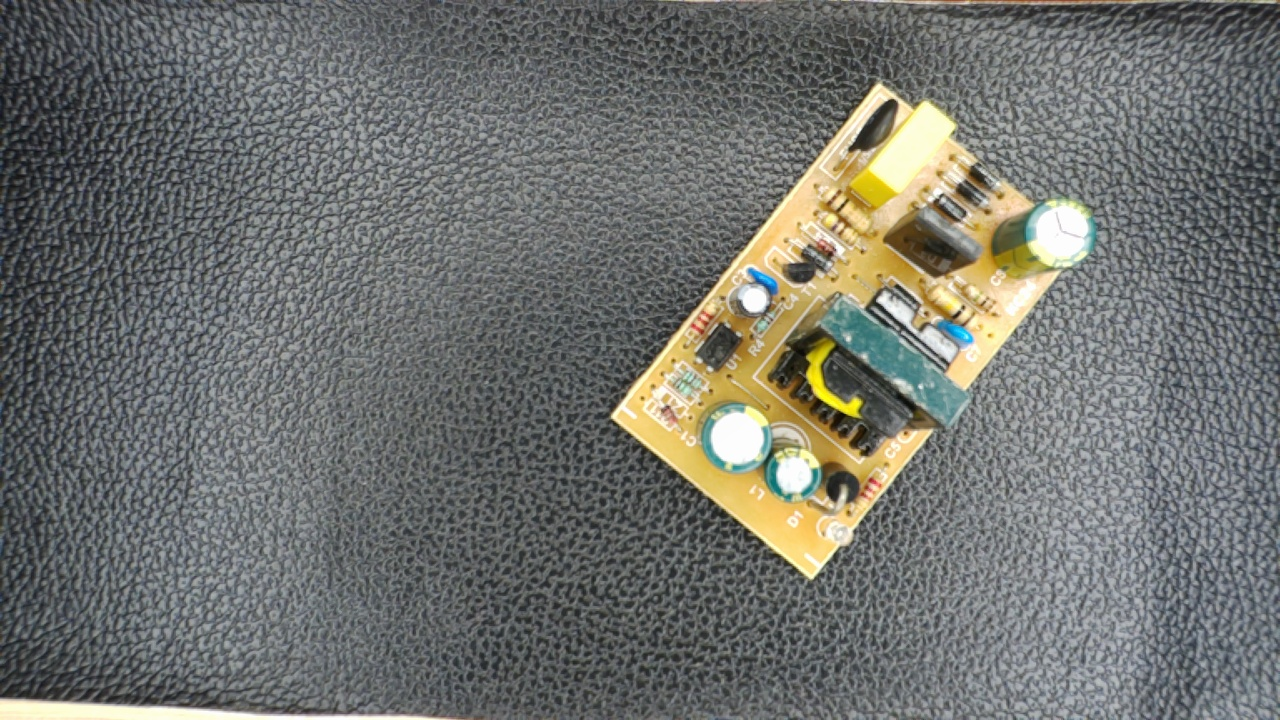fuse: (842, 93, 900, 165)
hv_capacitor: (992, 195, 1097, 281)
optocoupler: (690, 318, 744, 377)
